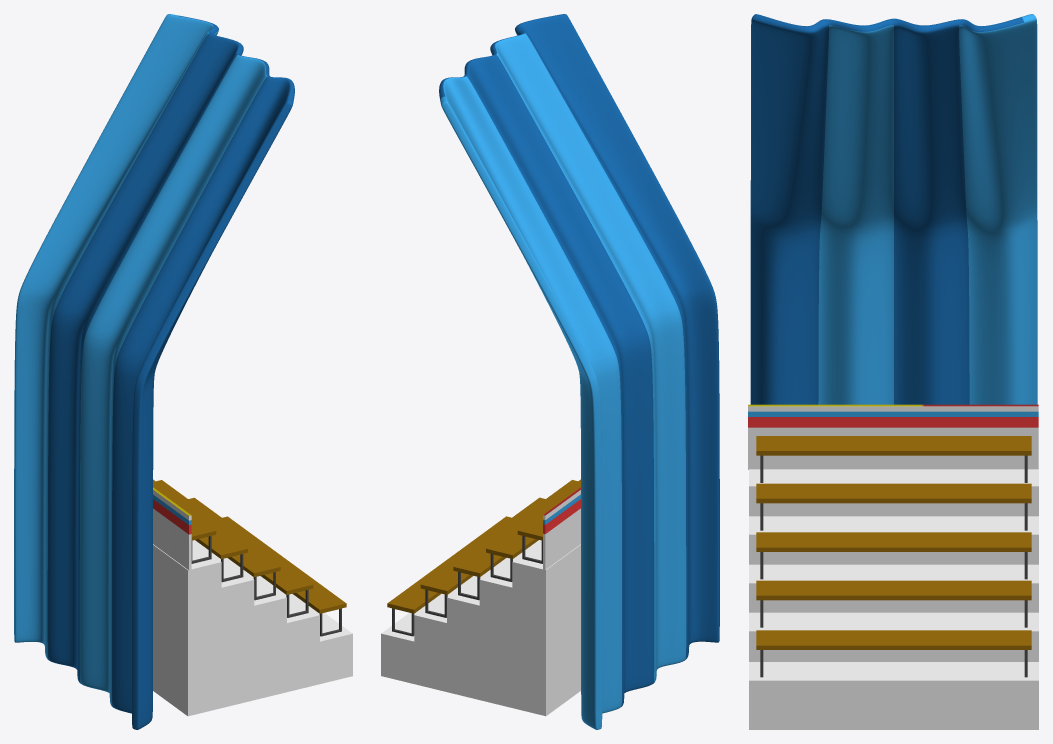
The model's file is BGEnviromentCirco2.fbx.
3 renders of one model, left to right at view 1: azimuth 30°, elevation 25°; view 2: azimuth 150°, elevation 25°; view 3: azimuth 270°, elevation 25°, orthographic. The views are drawn at different scales.
Parts seen in each view (by area): view 1: Plane, Cube, Cube.007, Cube.002, Cube.003, Cube.001, Cube.004, Cube.005; view 2: Plane, Cube, Cube.007, Cube.002, Cube.003, Cube.001, Cube.004, Cube.005; view 3: Plane, Cube, Cube.007, Cube.002, Cube.004, Cube.001, Cube.003, Cube.005.
Boxes of the visible parts, x1,y1,x2,y2 form: Plane: [14, 14, 294, 729]; Cube: [153, 540, 352, 716]; Cube.007: [153, 487, 191, 570]; Cube.002: [188, 497, 313, 617]; Cube.003: [156, 480, 280, 600]; Cube.001: [222, 516, 346, 636]; Cube.004: [153, 479, 247, 582]; Cube.005: [153, 484, 216, 563]; Plane: [439, 14, 719, 729]; Cube: [381, 540, 580, 716]; Cube.007: [543, 487, 580, 569]; Cube.002: [420, 497, 545, 617]; Cube.003: [453, 480, 577, 600]; Cube.001: [387, 516, 511, 636]; Cube.004: [486, 479, 580, 581]; Cube.005: [517, 484, 580, 563]; Plane: [750, 14, 1037, 404]; Cube: [749, 467, 1038, 729]; Cube.007: [748, 404, 1038, 469]; Cube.002: [756, 580, 1031, 627]; Cube.004: [756, 483, 1031, 530]; Cube.001: [756, 630, 1031, 677]; Cube.003: [756, 532, 1031, 579]; Cube.005: [756, 436, 1031, 482].
Bounding box in the file's own units: 2637 × 6868 × 2643.
Materials: 2 (2 with a texture image).
